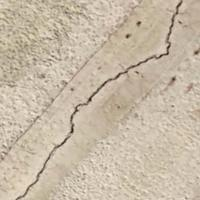crack: (12, 0, 183, 199)
